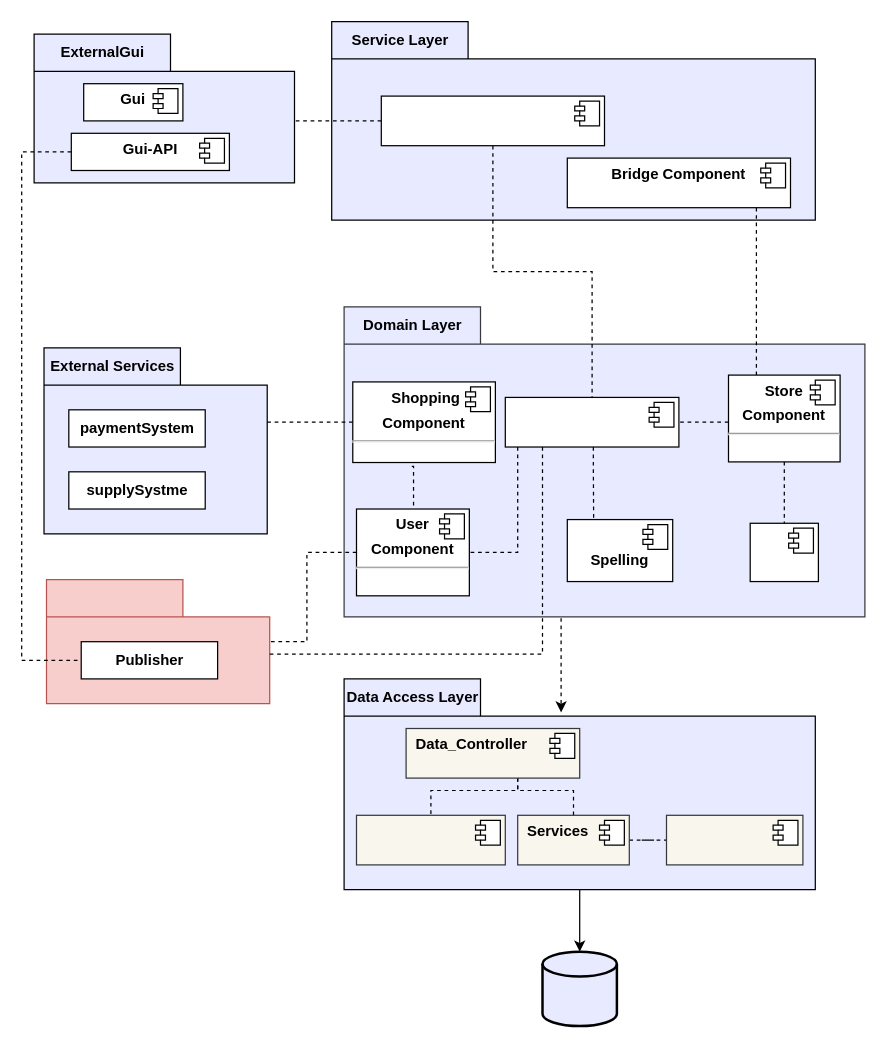
The diagram is 887 pixels wide and 1049 high, and some of its shapes have lost their labels. Here are the shapes that lost their labels. From the top down, the centre of each, then its label:
the point at 492,120: ServiceApi Component
the point at 591,421: Trading System Component
the point at 783,552: Policy
the point at 157,641: Notification
the point at 430,839: Data_Modules
the point at 734,839: Repositories
the point at 579,988: storage
